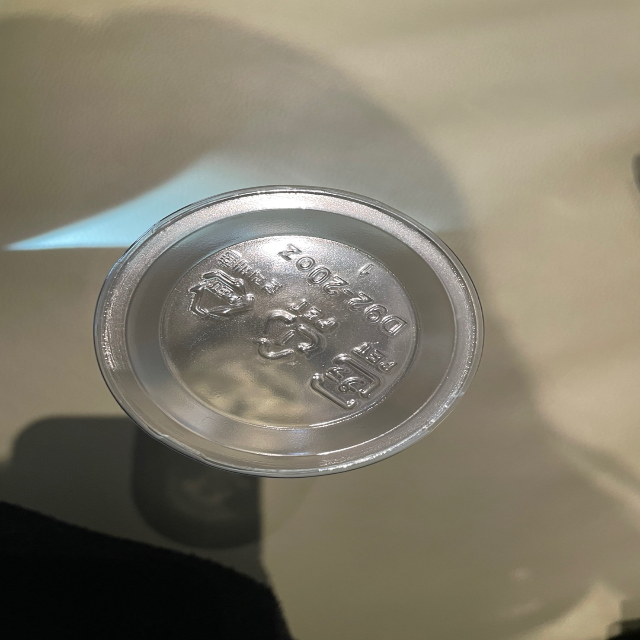pet: (182, 247, 283, 326), (310, 338, 400, 413), (253, 299, 336, 369)
